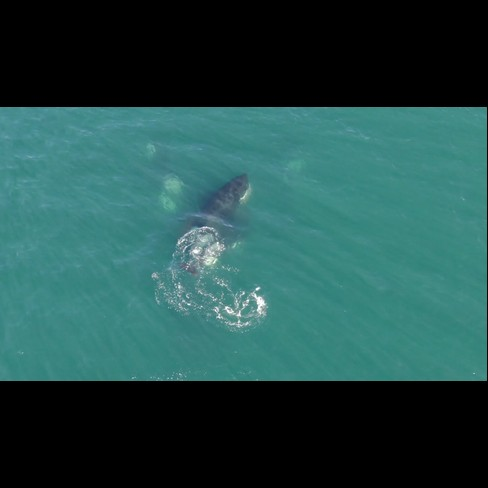orca: (166, 163, 266, 287)
